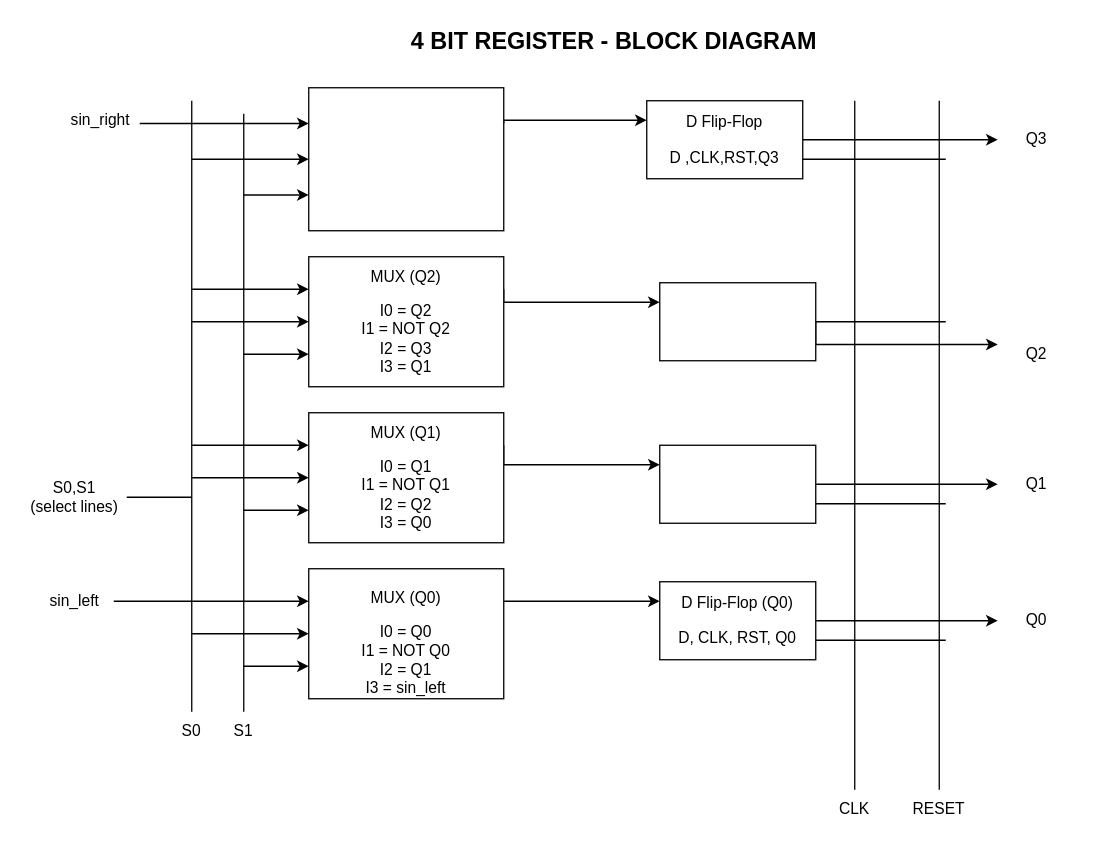
This 1097x850 diagram has some shape labels left out. The shapes that lost their labels are listed below. From the top down, each one's box as (x1, y1, x2, y2) in pixels, then its label:
(307, 86, 504, 231): MUX (Q3) I0 = Q3 I1 = NOT Q3 I2 = sin_right I3 = Q2
(658, 281, 816, 361): D Flip-Flop (Q2) D, CLK, RST, Q2
(658, 444, 816, 523): D Flip-Flop (Q1) D, CLK, RST, Q1
